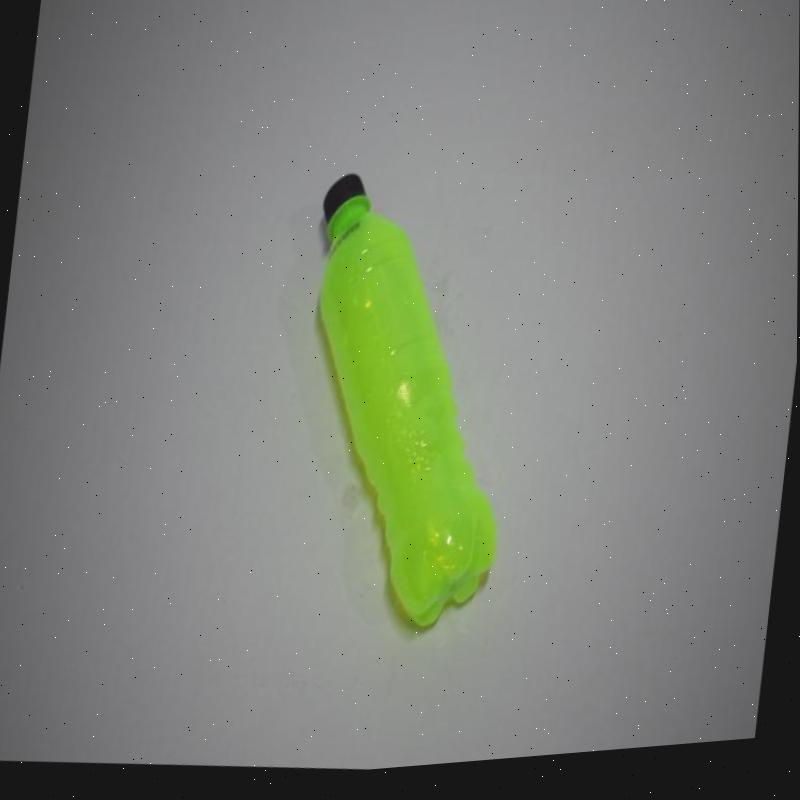botella: (274, 162, 539, 653)
